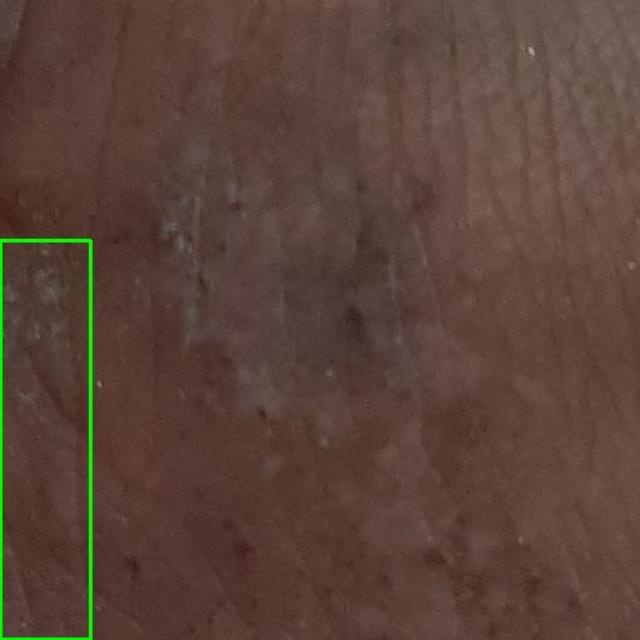Eczema: (0, 240, 90, 639)
